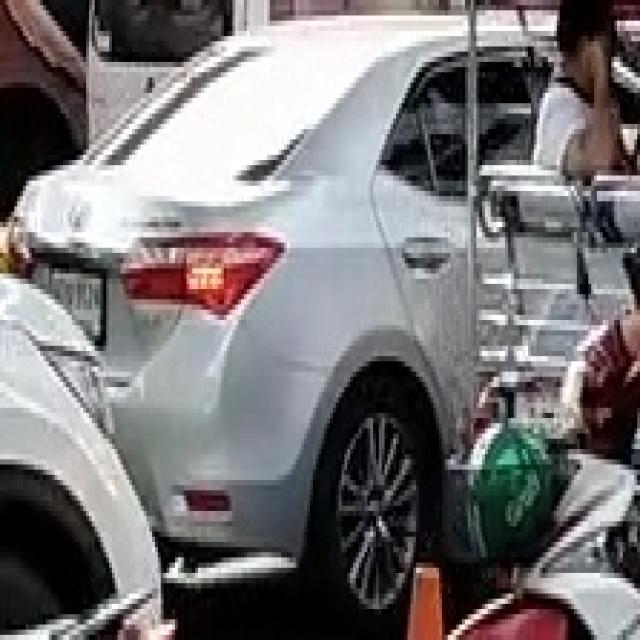door: (371, 41, 476, 454)
helmet: (462, 413, 557, 562)
tyre: (301, 362, 442, 624)
